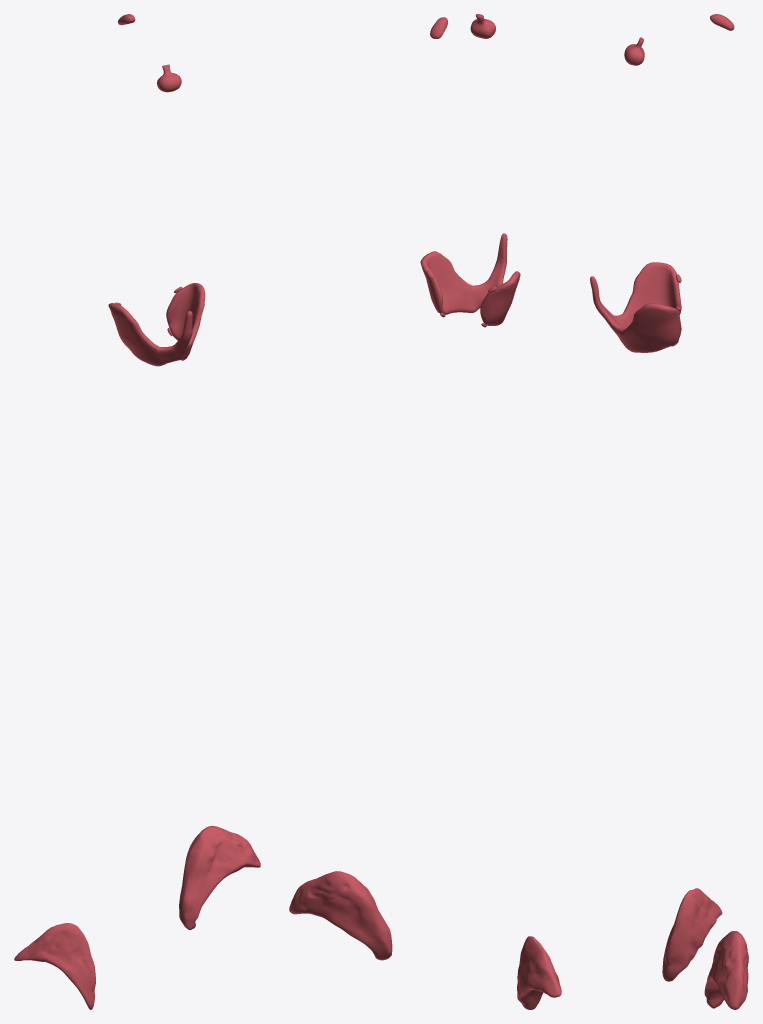
The model's file is glandulas-endocrinas.glb.
3 renders of one model, left to right at view 1: azimuth 30°, elevation 25°; view 2: azimuth 150°, elevation 25°; view 3: azimuth 270°, elevation 25°, orthographic. The views are drawn at different scales.
Visible parts, largest first — view 1: Suprarenal gland.l, Thyroid gland, Suprarenal gland.r; view 2: Suprarenal gland.l, Thyroid gland, Suprarenal gland.r; view 3: Thyroid gland, Suprarenal gland.r, Suprarenal gland.l.
Part boxes in pixels (<box>): Suprarenal gland.l: <box>179,825,260,929</box>; Thyroid gland: <box>108,283,205,366</box>; Suprarenal gland.r: <box>14,923,95,1009</box>; Suprarenal gland.l: <box>289,871,392,960</box>; Thyroid gland: <box>420,233,520,325</box>; Suprarenal gland.r: <box>517,936,561,1009</box>; Thyroid gland: <box>590,262,681,352</box>; Suprarenal gland.r: <box>662,888,722,981</box>; Suprarenal gland.l: <box>704,931,748,1009</box>.
Size of the model in its own units: 0.138 by 0.4994 by 0.072.
